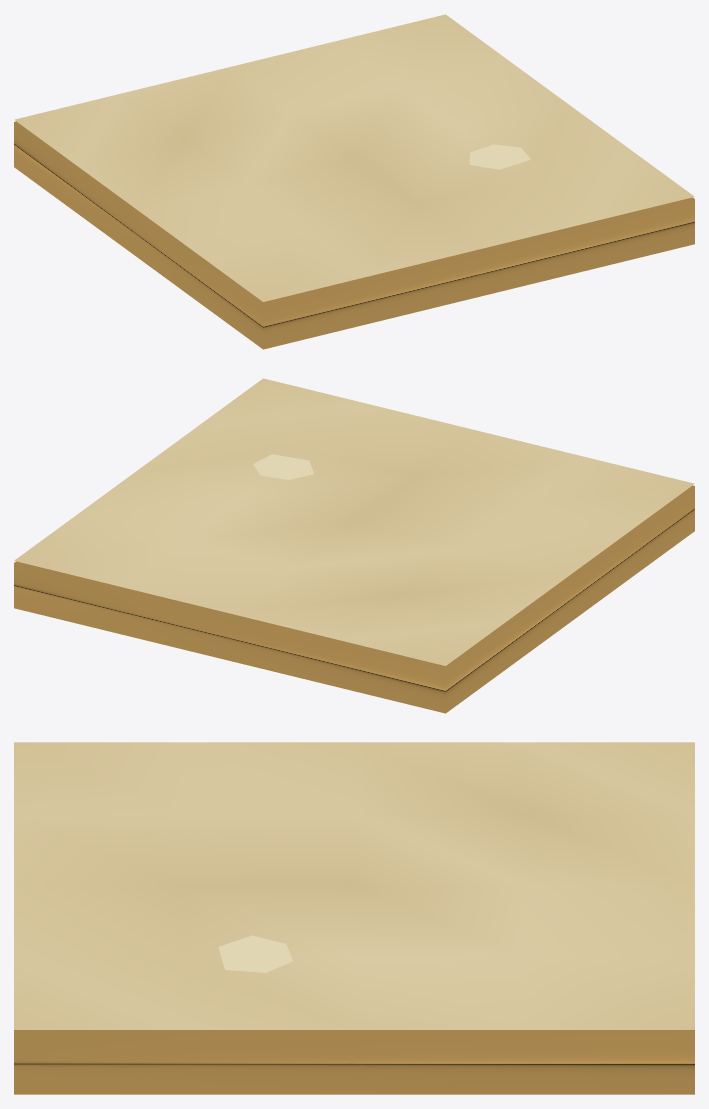
Rendered from tile_beach.glb.
3 renders of one model, top to bottom at view 1: azimuth 30°, elevation 25°; view 2: azimuth 150°, elevation 25°; view 3: azimuth 270°, elevation 25°, orthographic. The views are drawn at different scales.
Visible parts, largest first — view 1: Tile.001; view 2: Tile.001; view 3: Tile.001.
Boxes of the visible parts, box(x1,y1,x2,y2) form: Tile.001: box(14, 14, 694, 349); Tile.001: box(14, 378, 694, 713); Tile.001: box(14, 742, 694, 1094).
Bounding box in the file's own units: 1 × 0.109 × 1.
